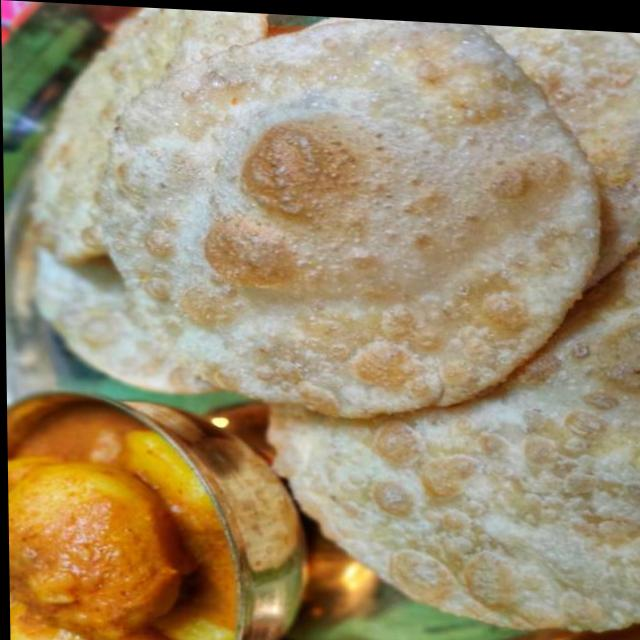EGG: (6, 435, 189, 640)
POORI: (20, 9, 640, 637)
